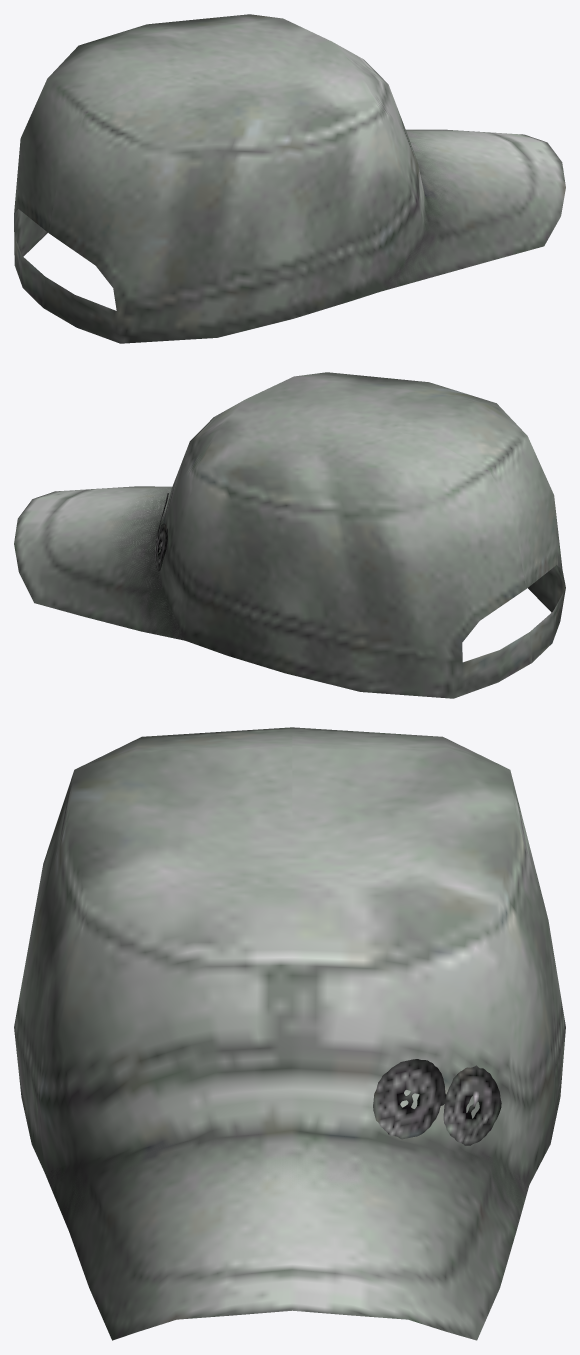
File: hat_0450021.FBX
The picture shows the model from 3 angles, top to bottom: view 1: azimuth 30°, elevation 25°; view 2: azimuth 150°, elevation 25°; view 3: azimuth 270°, elevation 25°; orthographic projection. The views are drawn at different scales.
Parts seen in each view (by area): view 1: hat_0450021; view 2: hat_0450021; view 3: hat_0450021.
Part boxes in pixels (bbox=[...]): hat_0450021: bbox=[14, 14, 565, 343]; hat_0450021: bbox=[14, 372, 565, 698]; hat_0450021: bbox=[14, 727, 565, 1340].
Size of the model in its own units: 34.23 by 13.42 by 20.37.
